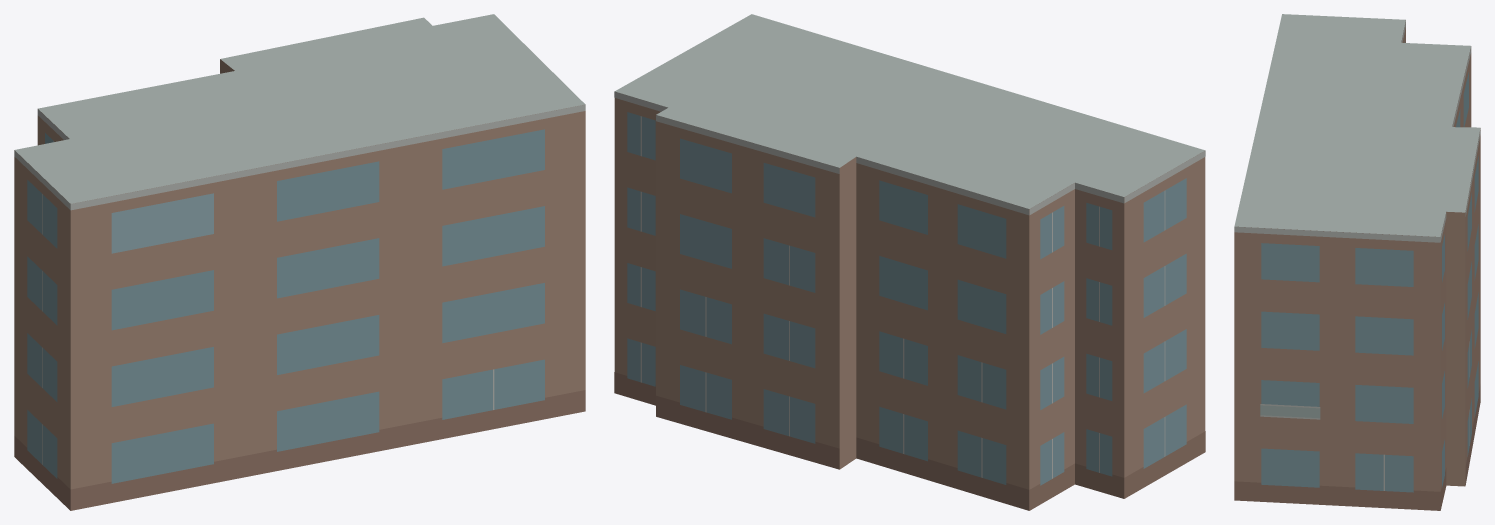
Rendered from survey-upis-32515755.glb.
3 renders of one model, left to right at view 1: azimuth 30°, elevation 25°; view 2: azimuth 150°, elevation 25°; view 3: azimuth 270°, elevation 25°, orthographic. The views are drawn at different scales.
Parts seen in each view (by area): view 1: survey-upis-32515755.tmp; view 2: survey-upis-32515755.tmp; view 3: survey-upis-32515755.tmp.
Boxes of the visible parts, box(x1,y1,x2,y2) form: survey-upis-32515755.tmp: box(14, 14, 585, 510); survey-upis-32515755.tmp: box(614, 14, 1205, 510); survey-upis-32515755.tmp: box(1234, 14, 1480, 510).
Bounding box in the file's own units: 20.27 × 11.6 × 9.46.
